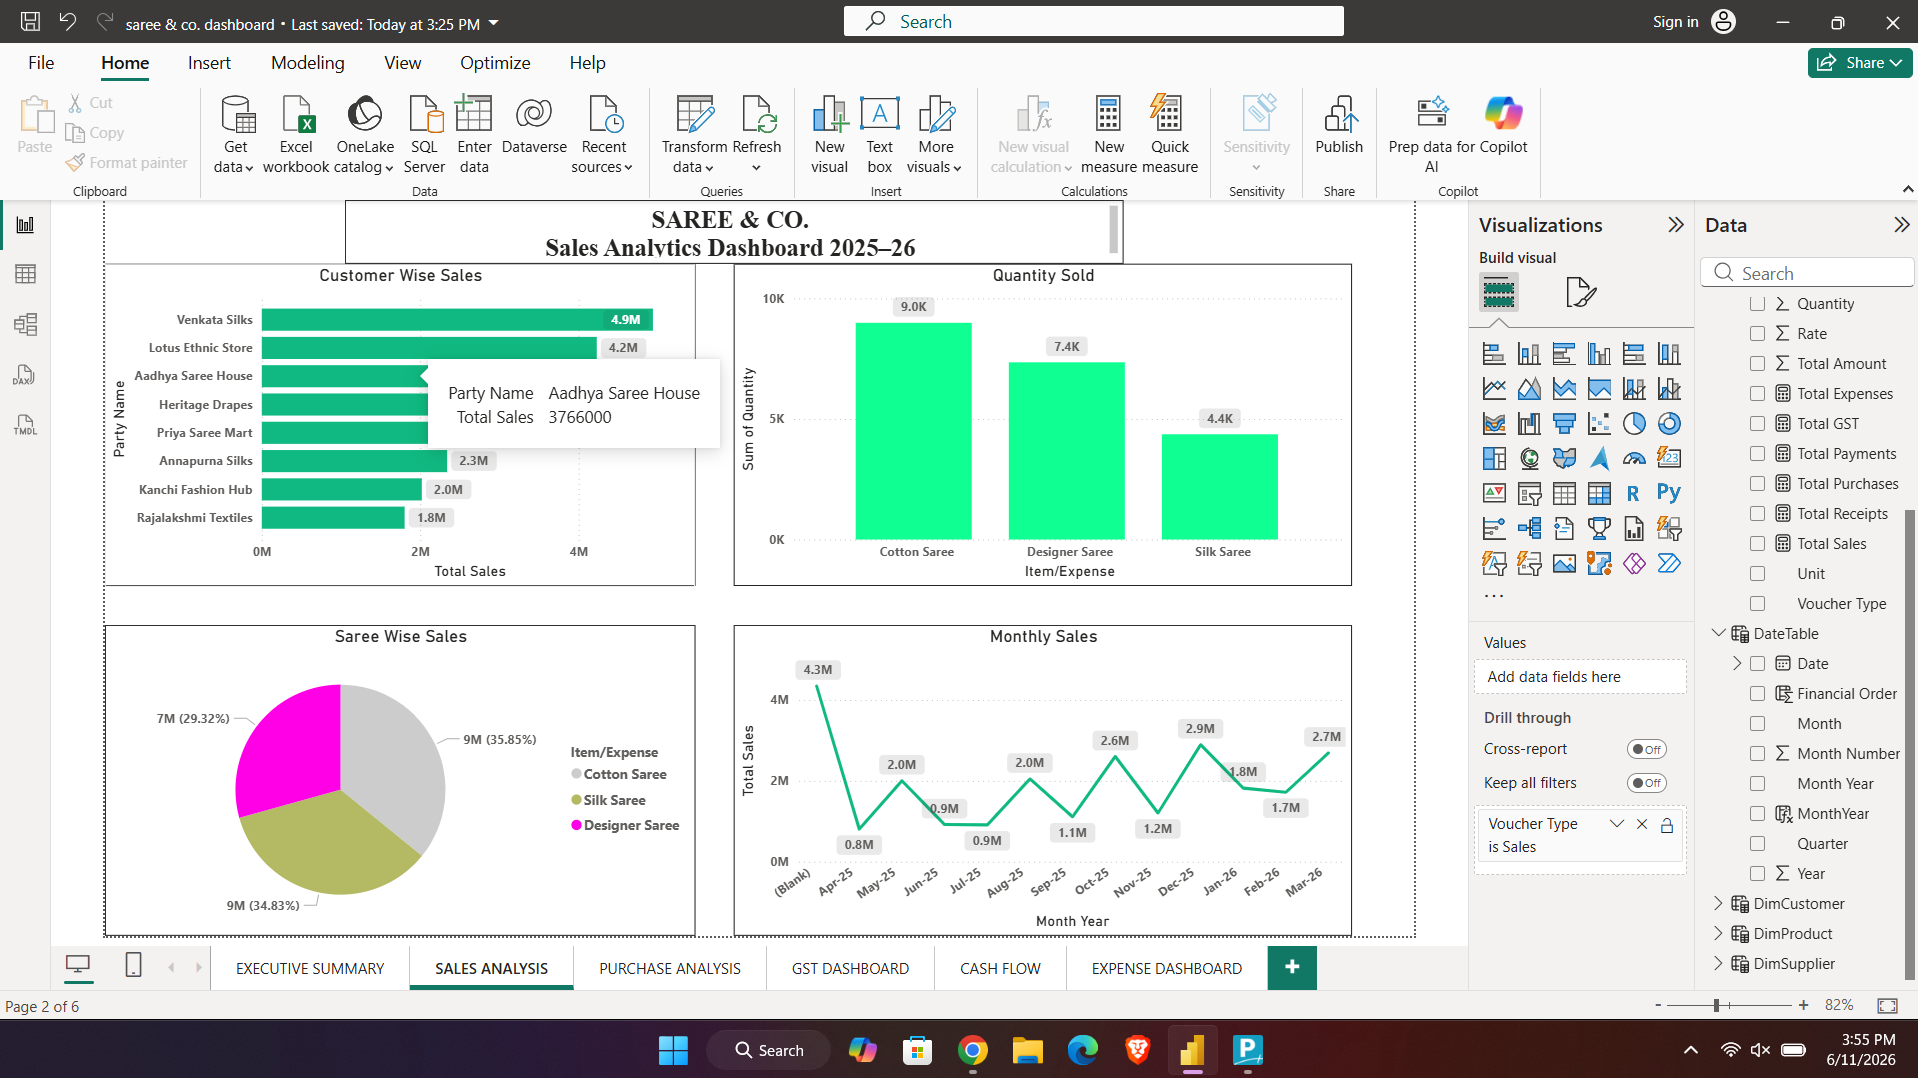

The page's visual inventory and layout, read from the dashboard file:
{"tool":"powerbi","page":{"name":"SALES ANALYSIS","canvas":[1280,720],"ordinal":1},"visuals":[{"type":"barChart","title":"Customer Wise Sales","fields":{"Category":["April25 - March26.Party Name"],"Y":["April25 - March26.Total Sales"]},"box":[0,62.5,577.5,315],"z":0},{"type":"pieChart","title":"Saree Wise Sales","fields":{"Category":["April25 - March26.Item/Expense"],"Y":["April25 - March26.Total Sales"]},"box":[0,416.2,577.5,303.8],"z":1000},{"type":"columnChart","title":"Quantity Sold","fields":{"Y":["Sum(April25 - March26.Quantity)"],"Category":["April25 - March26.Item/Expense"]},"box":[615,62.5,605,315],"z":2000},{"type":"areaChart","title":"Monthly Sales","fields":{"Category":["DateTable.Month Year"],"Y":["April25 - March26.Total Sales"]},"box":[615,416.2,605,303.8],"z":3000},{"type":"textbox","box":[234.8,0,761.8,62.4],"z":3001}]}

Visuals, with their boxes on the page's 1280x720 design canvas (x1, y1, x2, y2). These are canvas units, not pixel positions in the 1918x1078 screenshot, which may show the page scaled, cropped or inside an application window:
"Customer Wise Sales" barChart: left=0, top=62, right=578, bottom=378
"Saree Wise Sales" pieChart: left=0, top=416, right=578, bottom=720
"Quantity Sold" columnChart: left=615, top=62, right=1220, bottom=378
"Monthly Sales" areaChart: left=615, top=416, right=1220, bottom=720
textbox: left=235, top=0, right=997, bottom=62
